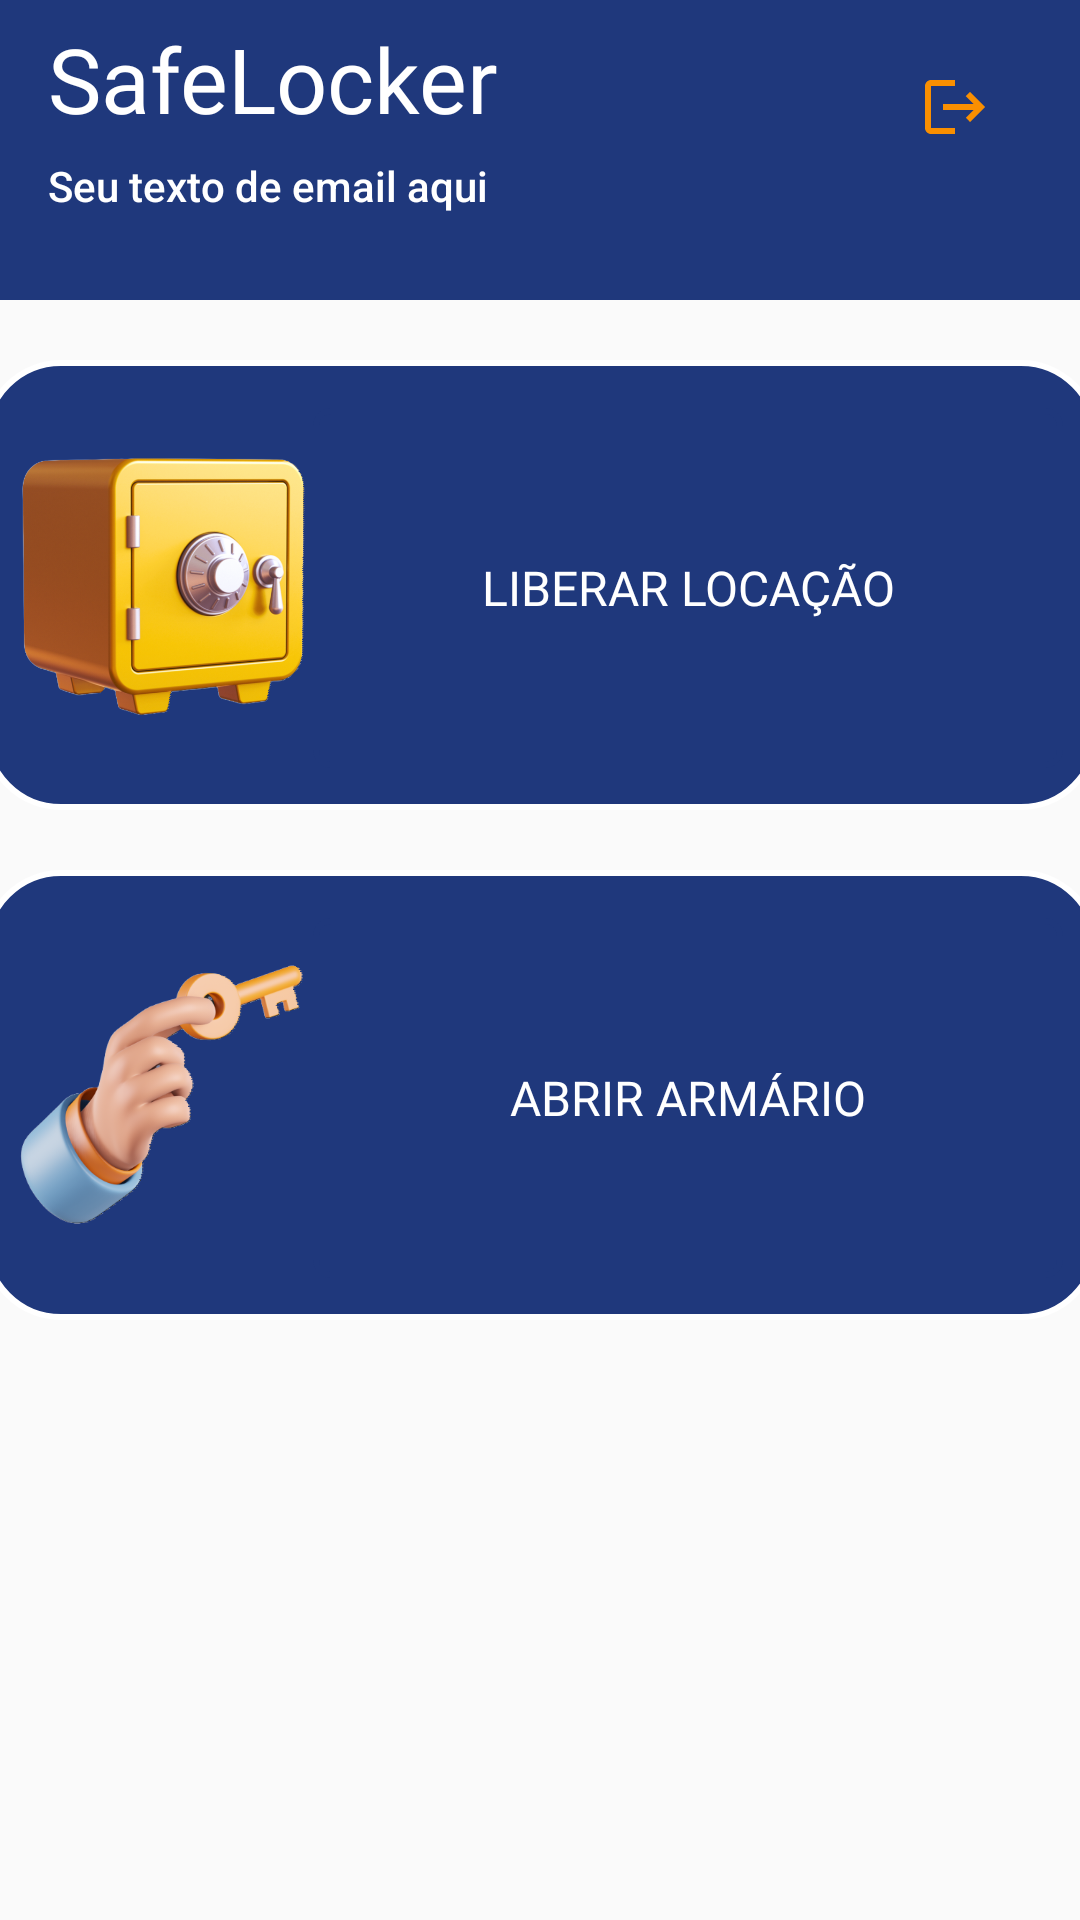

Screen size 1080 × 1920. Icon name, then its center in pixels as (x,y):
cofre: (163,586)
maozinha: (162,1094)
